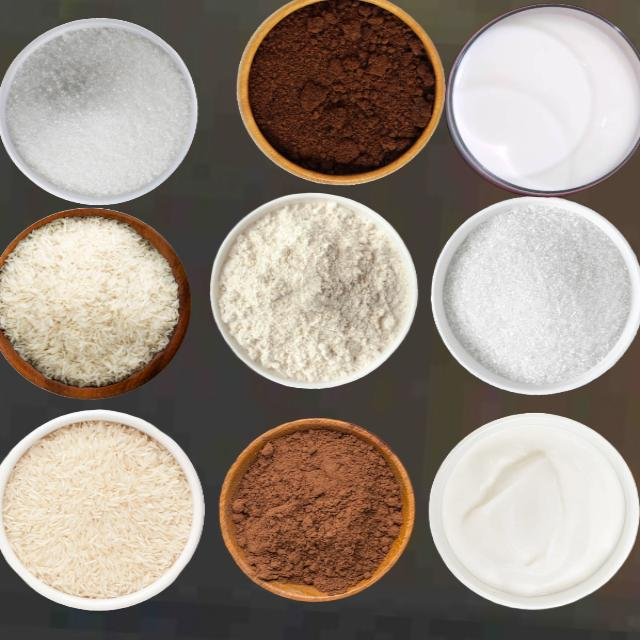Cocoa: (219, 417, 414, 601)
Coffee: (245, 0, 437, 176)
Flour: (217, 199, 409, 383)
Sugar: (1, 18, 196, 203), (442, 202, 630, 385)
